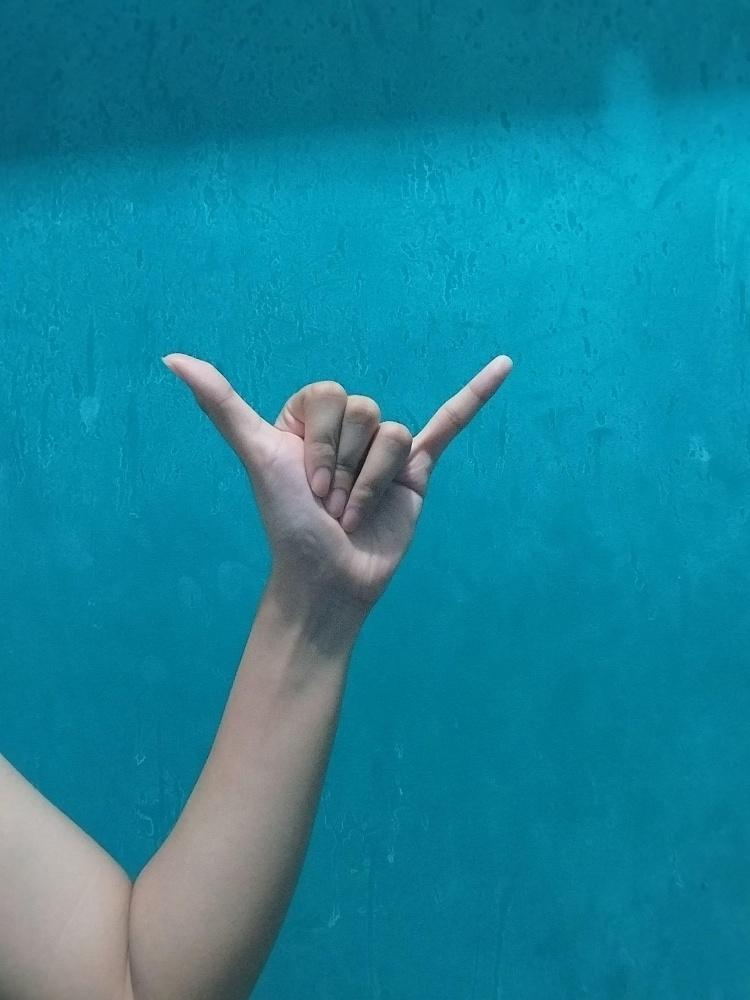y: (160, 344, 514, 614)
